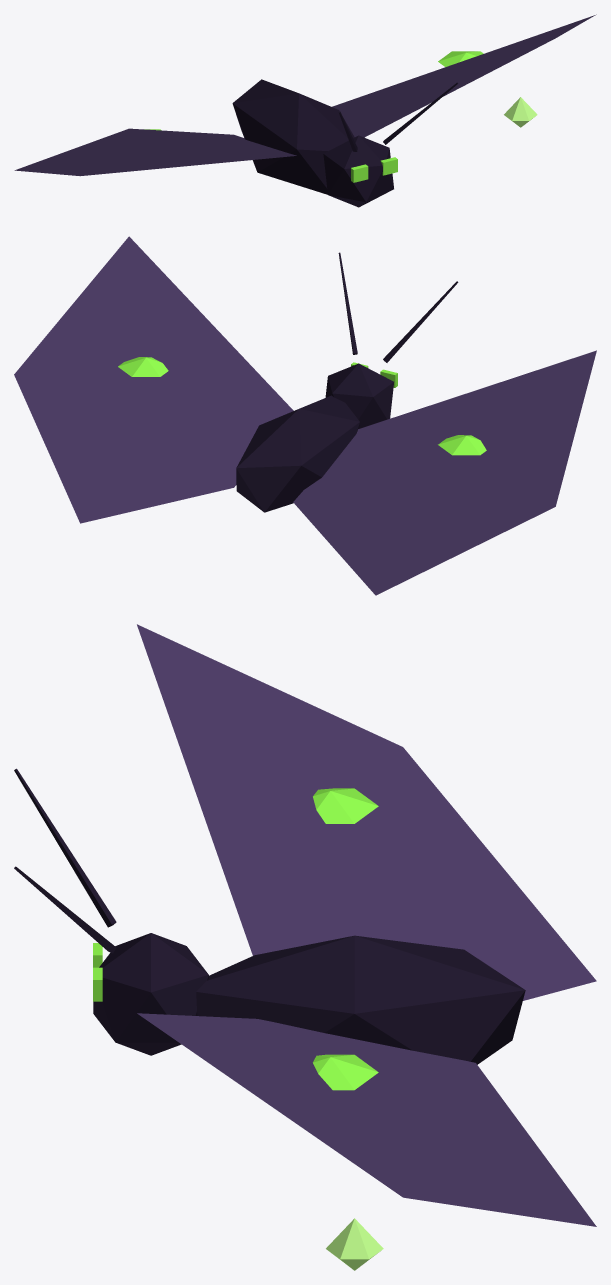
The model's file is MariposaFatua.fbx.
3 views of the same model, one above another, from view 1: azimuth 30°, elevation 25°; view 2: azimuth 150°, elevation 25°; view 3: azimuth 270°, elevation 25° (orthographic). The views are drawn at different scales.
Parts seen in each view (by area): view 1: Body, WingR, WingL, Orb0; view 2: WingL, WingR, Body; view 3: WingR, WingL, Body, Orb0.
Part boxes in pixels (x1,y1,x2,y2): Body: (232, 79, 458, 207); WingR: (14, 128, 296, 176); WingL: (332, 14, 596, 137); Orb0: (504, 97, 537, 127); WingL: (14, 236, 293, 523); WingR: (293, 350, 596, 595); Body: (236, 252, 458, 512); WingR: (137, 624, 596, 1000); WingL: (137, 1013, 596, 1226); Body: (14, 768, 525, 1064); Orb0: (326, 1218, 383, 1270).
Size of the model in its own units: 2.2 by 0.6518 by 1.2.
